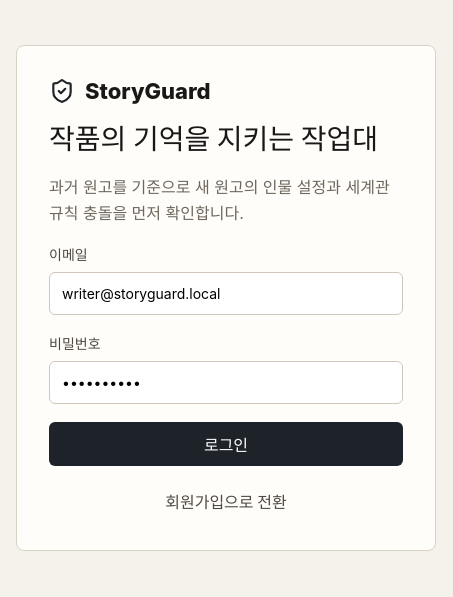
Scenario: StoryGuard app › shows an inline message when login credentials are invalid
The width and height of the screenshot is (453, 597).
Type "wrong-password" into the password field labelled "비밀번호" at (226, 383), box [49,361,403,404]
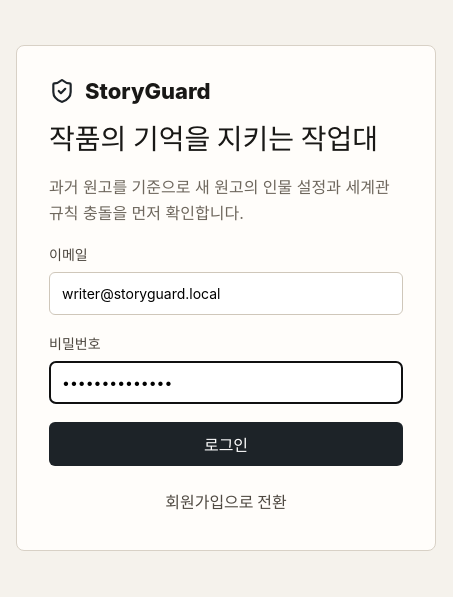
Click the button "로그인" at (226, 444), box [49,422,403,466]
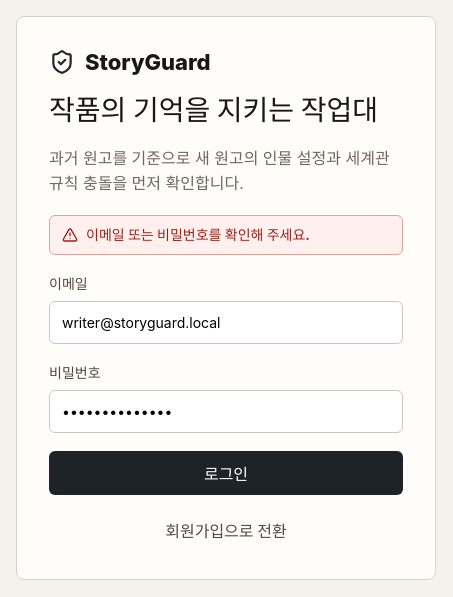
Expected: the button "로그인" is enabled, [49,451,403,495]
Expected: the message reads "이메일 또는 비밀번호를 확인해 주세요.", [86,226,310,243]
